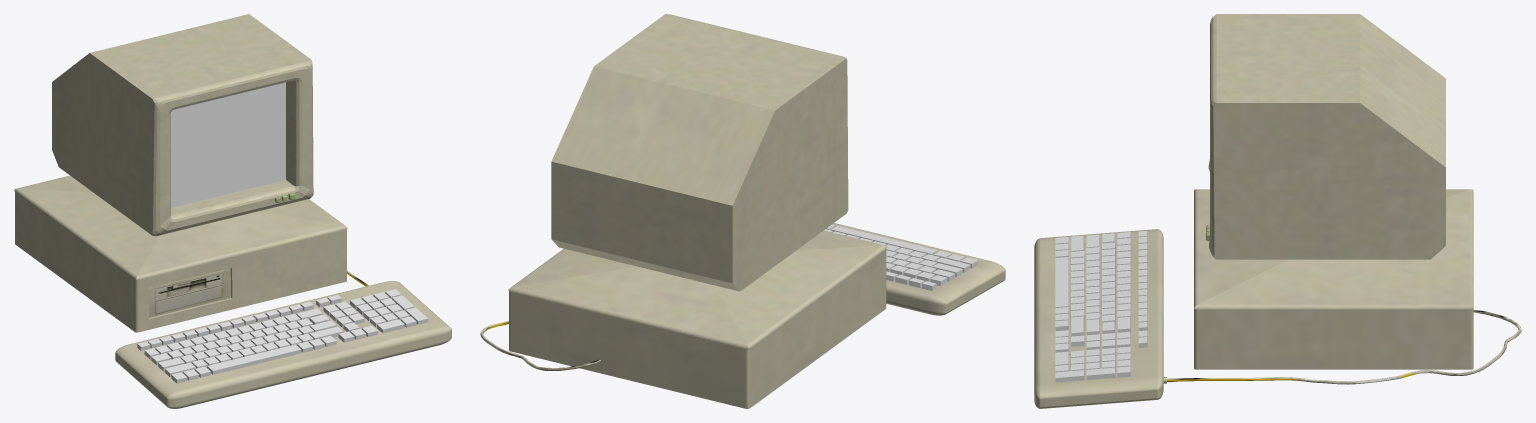
Rendered from computer.glb.
The picture shows the model from 3 angles, left to right: view 1: azimuth 30°, elevation 25°; view 2: azimuth 150°, elevation 25°; view 3: azimuth 270°, elevation 25°; orthographic projection. The views are drawn at different scales.
Parts seen in each view (by area): view 1: PC; view 2: PC; view 3: PC.
Boxes of the visible parts, box(x1,y1,x2,y2) form: PC: box(14, 14, 451, 408); PC: box(480, 14, 1005, 408); PC: box(1034, 14, 1521, 408).
Size of the model in its own units: 0.6827 by 0.5502 by 0.8843.
Materials: 3 (1 with a texture image).
